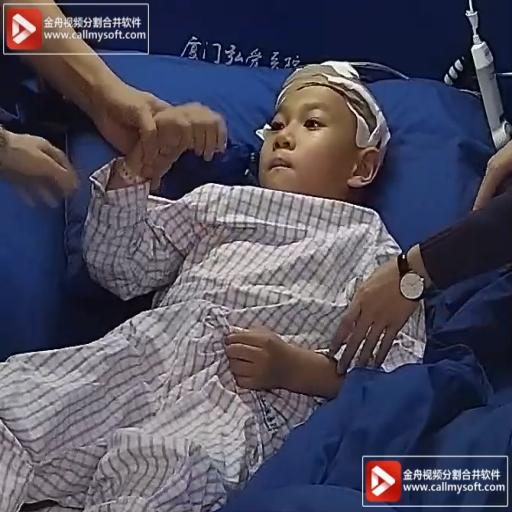Seizure: (260, 61, 388, 207)
